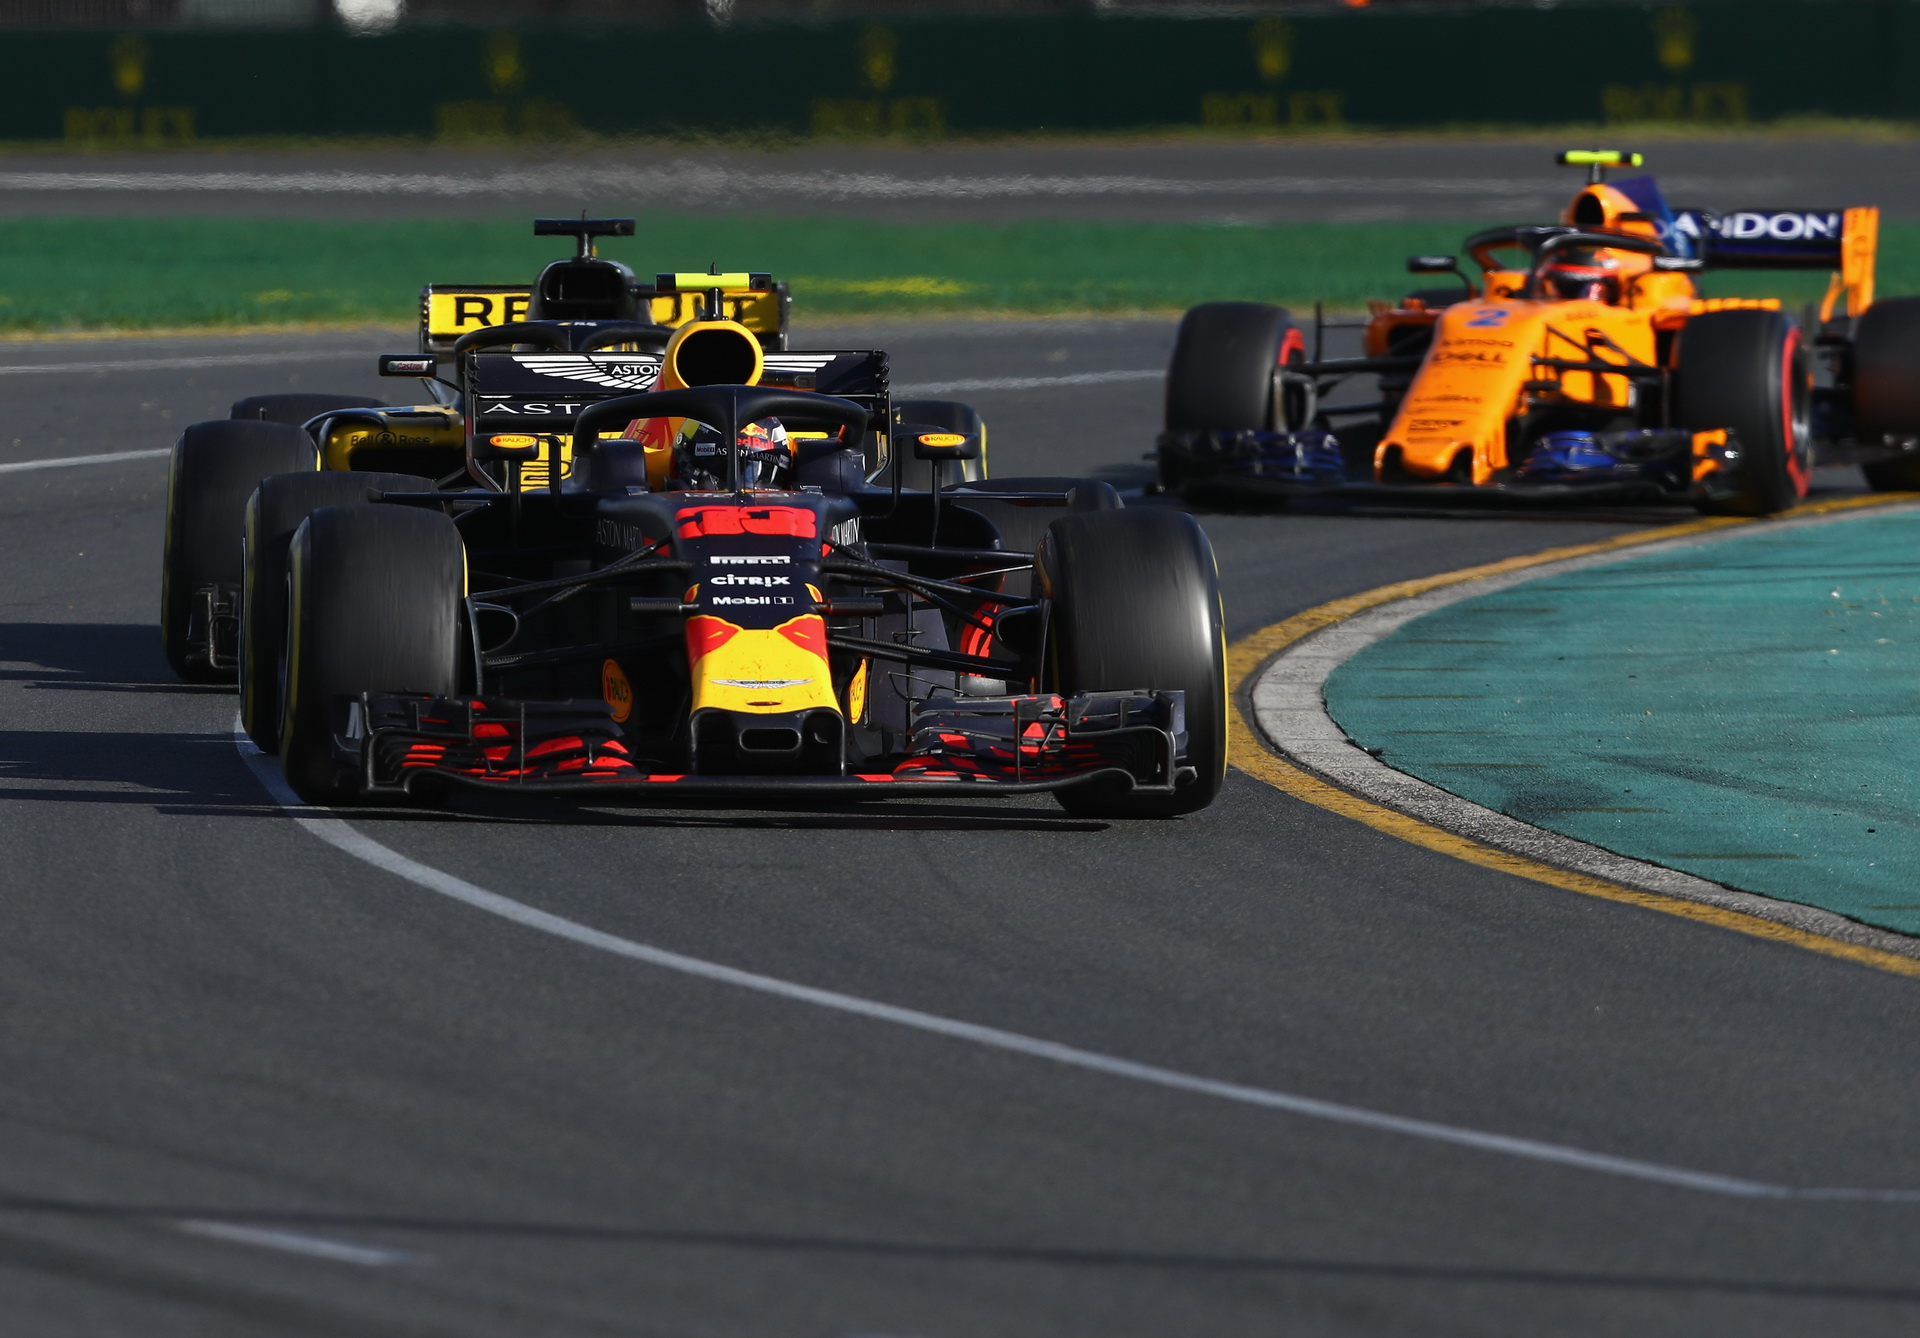f1_car: (228, 257, 1244, 864), (1139, 115, 1920, 549)
